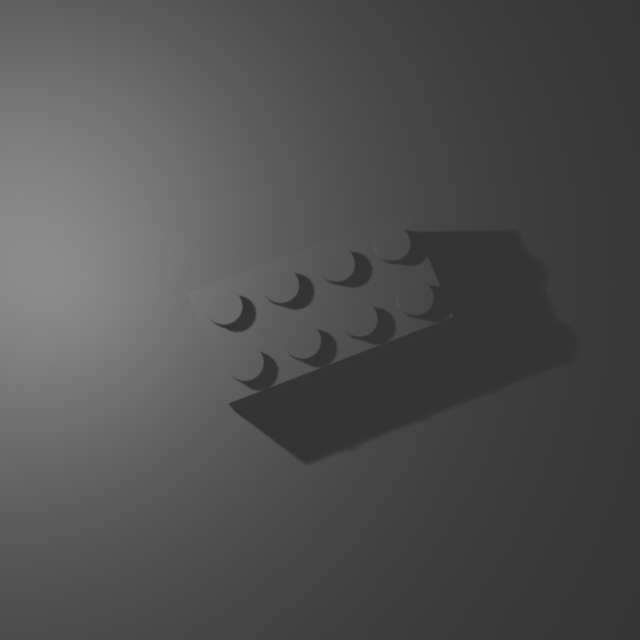lego_2x4: (186, 207, 455, 412)
